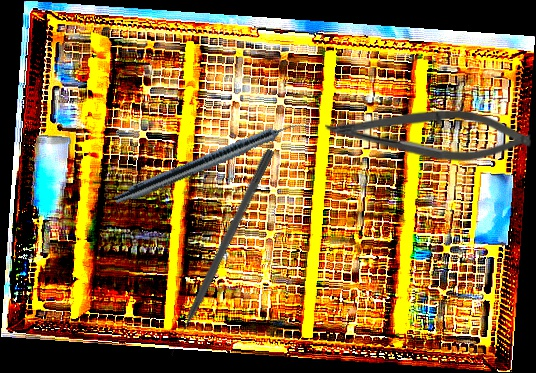Handpiece: (112, 112, 311, 211)
Micro Scissor: (325, 110, 531, 161)
Pusher: (164, 146, 276, 358)
